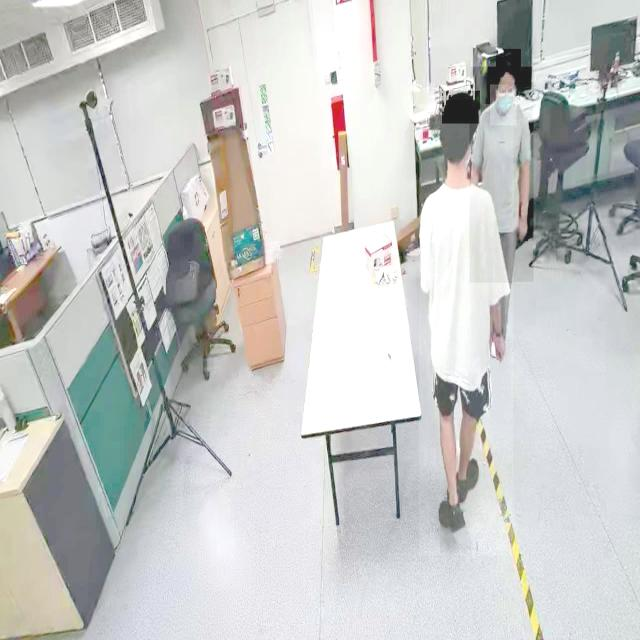face_mask: (490, 84, 516, 126)
hand_noglove: (495, 332, 507, 362), (518, 215, 530, 242)
head_nohelmet: (442, 90, 480, 124), (495, 49, 521, 75)
person: (418, 104, 514, 556), (469, 66, 534, 282)
shoes: (450, 450, 482, 506), (433, 492, 469, 534)
